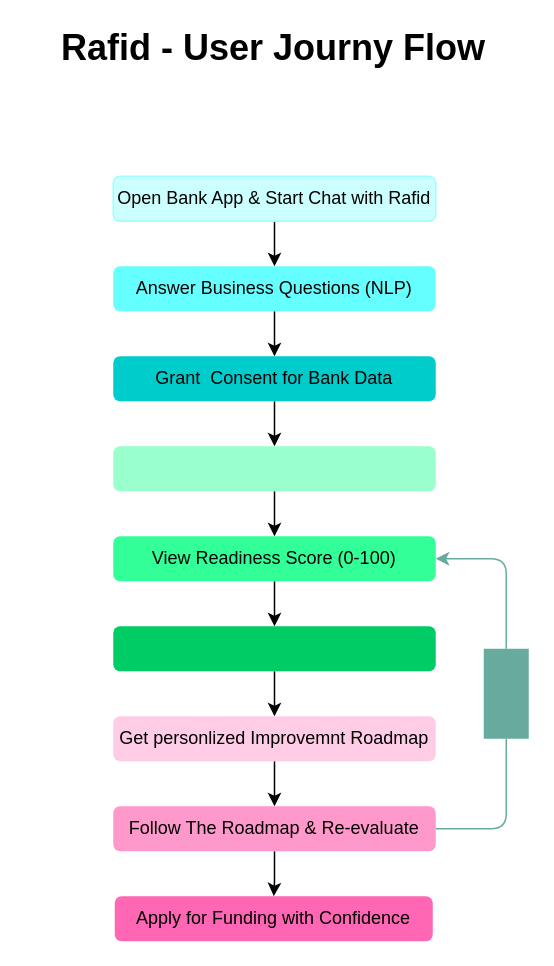
Some shapes in this 554 by 966 pixel diagram are drawn without their labels. Here are the shapes that lost their labels. From the top down, the box of each, then its label:
(112, 446, 435, 490): FRE Analyzes Financial Data
(112, 626, 435, 670): Read Explainability Report
(483, 648, 528, 738): Loop
